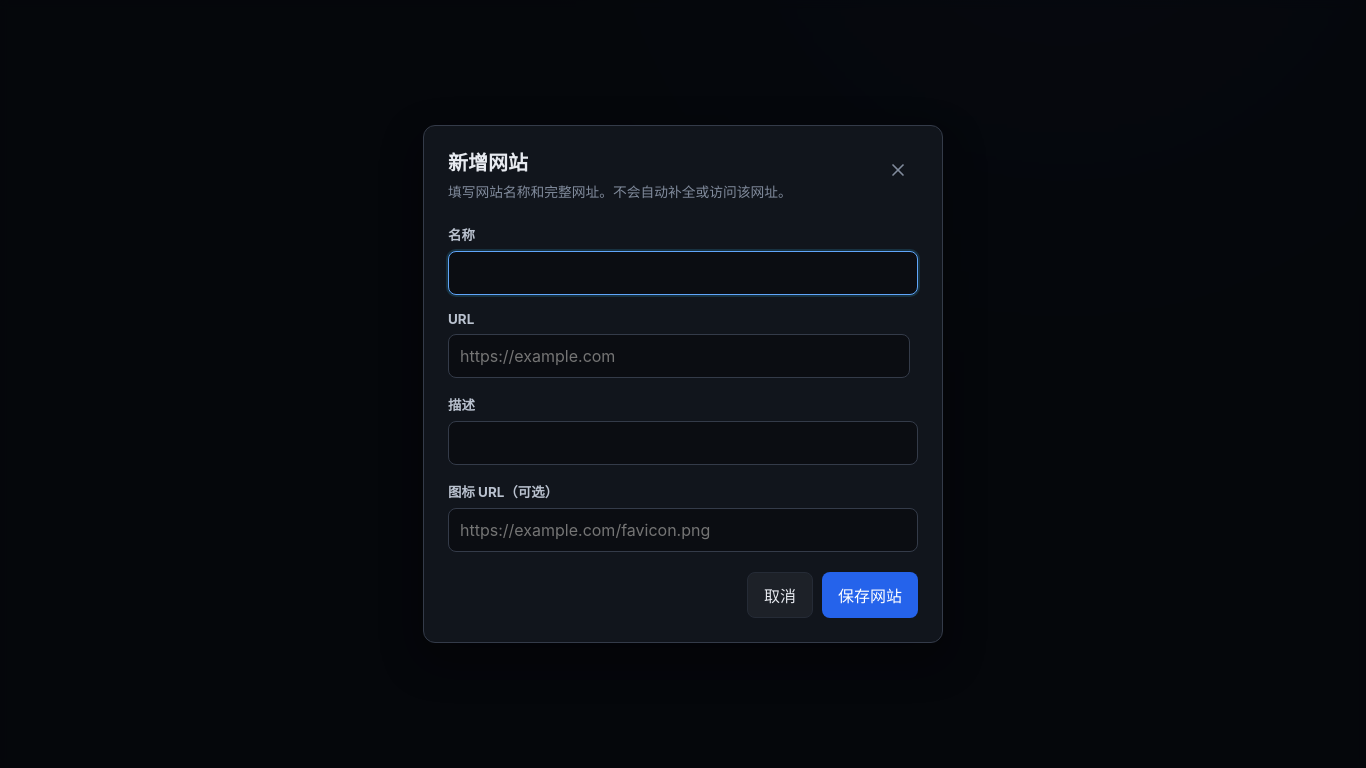
Test: LinkEditorDialog › reports required fields and focuses the first invalid field
What coordinates should you click on to do the following:
click the button "保存网站"
I would click on:
 (870, 595)
Its box is [822,572,918,618].
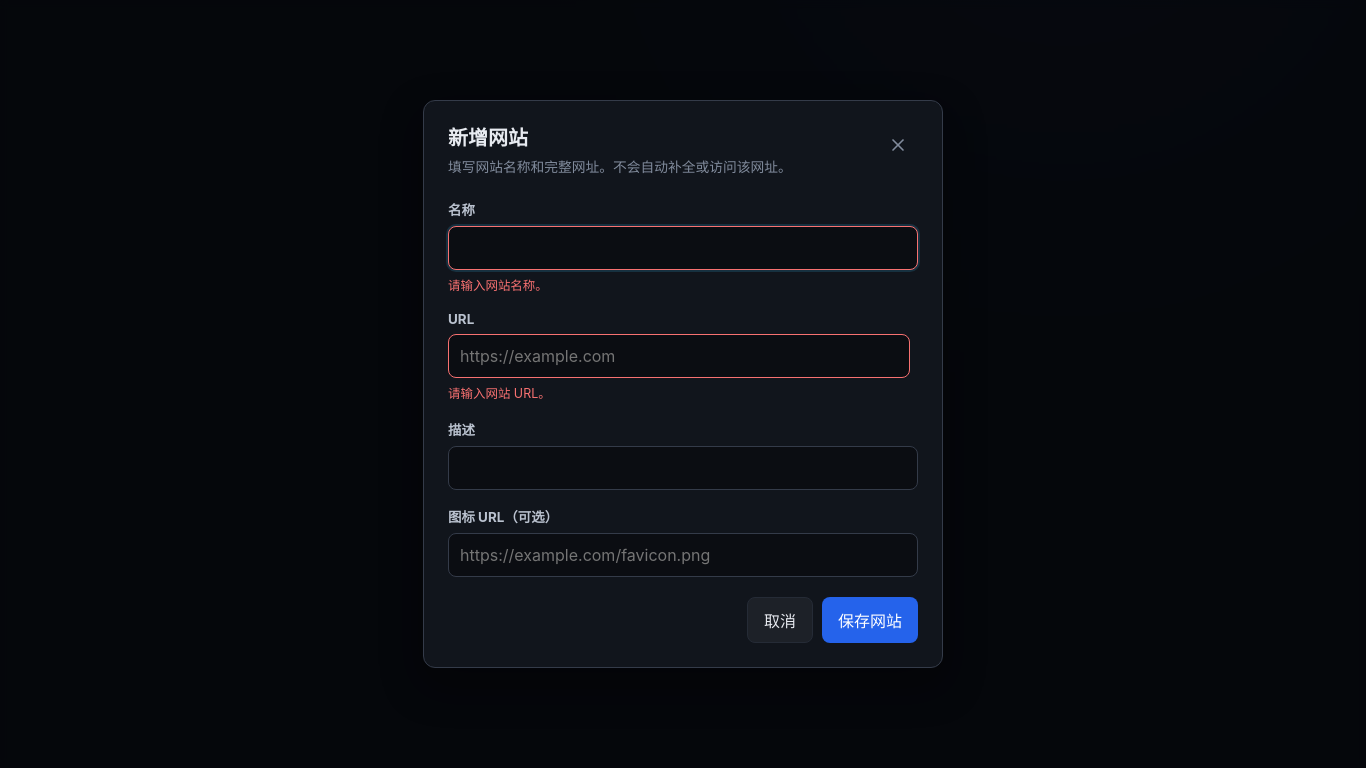
Check: the text "请输入网站名称。" is shown, box [448,278,548,293]
Check: the text "请输入网站 URL。" is shown, box [448,386,551,401]
